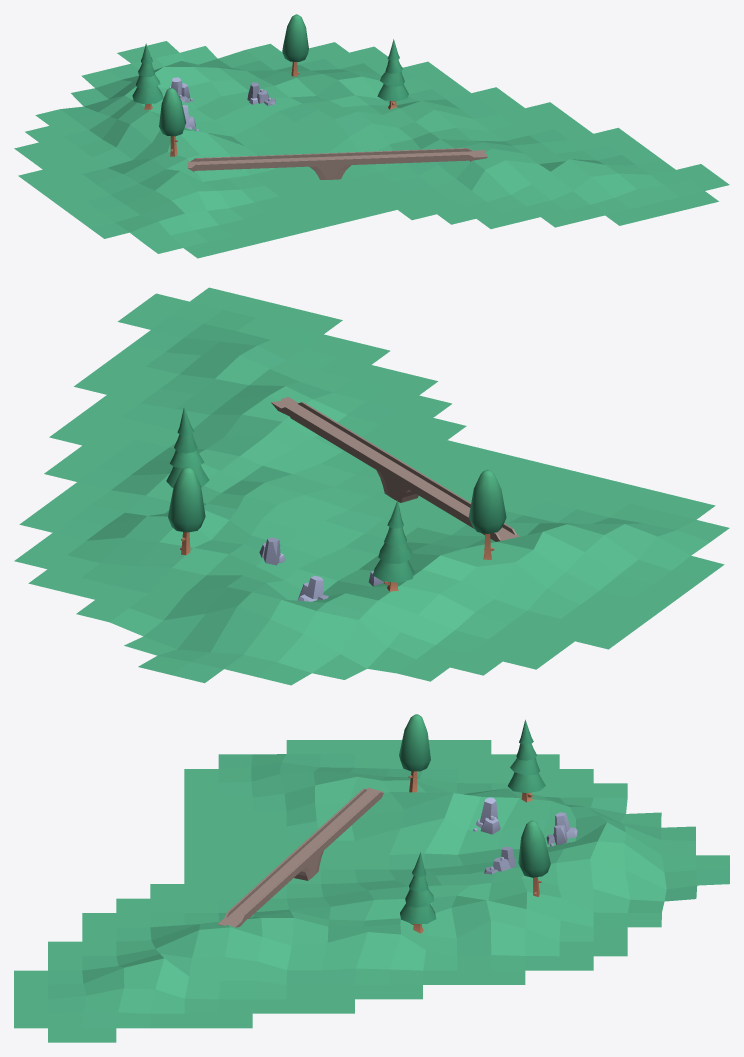
The model's file is TreePark.glb.
3 renders of one model, top to bottom at view 1: azimuth 30°, elevation 25°; view 2: azimuth 150°, elevation 25°; view 3: azimuth 270°, elevation 25°, orthographic. The views are drawn at different scales.
Visible parts, largest first — view 1: Plane.001, Cube, tree-high-round, tree-crooked, tree-high-round.001, tree-crooked.001, rock-wide; view 2: Plane.001, Cube, tree-high-round.001, tree-high-round, tree-crooked.001, tree-crooked; view 3: Plane.001, Cube, tree-high-round, tree-crooked.001, tree-crooked, tree-high-round.001, rock-small, rock-large.
Boxes of the visible parts, bbox=[...] form: Plane.001: bbox=[14, 41, 729, 258]; Cube: bbox=[187, 148, 487, 179]; tree-high-round: bbox=[159, 88, 186, 156]; tree-crooked: bbox=[377, 39, 408, 109]; tree-high-round.001: bbox=[282, 14, 308, 76]; tree-crooked.001: bbox=[132, 43, 163, 109]; rock-wide: bbox=[247, 82, 275, 105]; Plane.001: bbox=[14, 287, 729, 685]; Cube: bbox=[271, 397, 519, 541]; tree-high-round.001: bbox=[168, 467, 205, 555]; tree-high-round: bbox=[468, 469, 506, 559]; tree-crooked.001: bbox=[373, 500, 414, 591]; tree-crooked: bbox=[166, 407, 209, 487]; Plane.001: bbox=[14, 740, 729, 1042]; Cube: bbox=[217, 787, 384, 927]; tree-high-round: bbox=[399, 714, 430, 792]; tree-crooked.001: bbox=[508, 719, 545, 802]; tree-crooked: bbox=[400, 852, 436, 933]; tree-high-round.001: bbox=[518, 820, 550, 896]; rock-small: bbox=[473, 797, 500, 834]; rock-large: bbox=[546, 812, 577, 846].
Bounding box in the file's own units: 1.73 × 0.2935 × 1.73.
7 materials, 5 textured.
